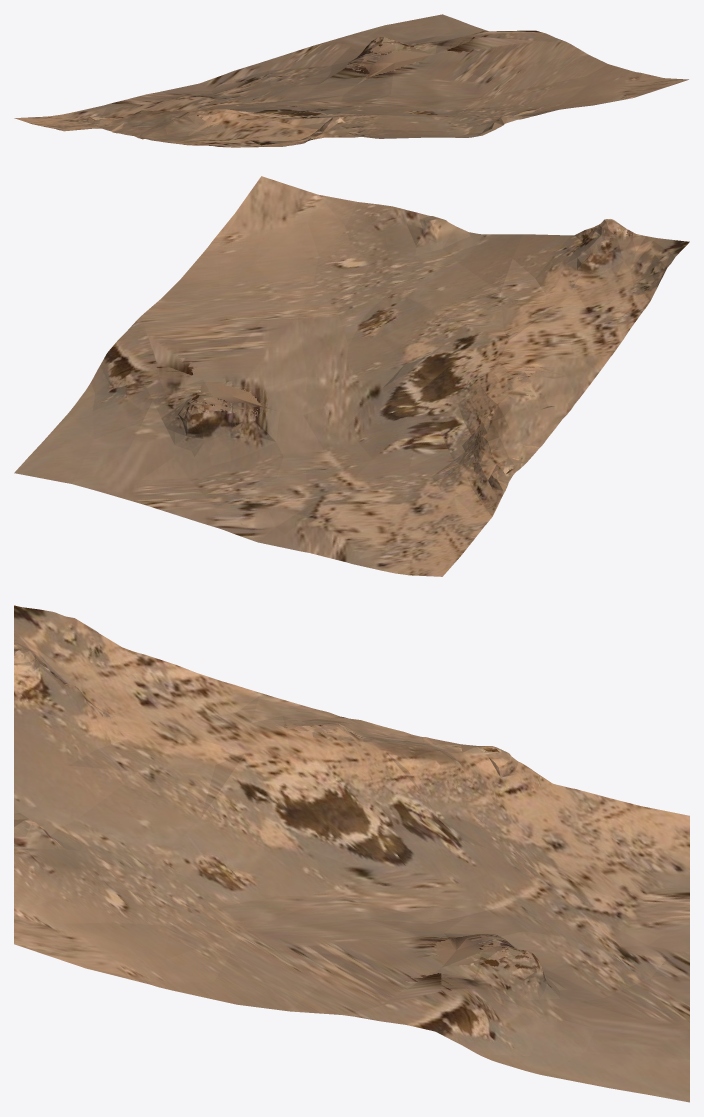
The picture shows the model from 3 angles, top to bottom: view 1: azimuth 30°, elevation 25°; view 2: azimuth 150°, elevation 25°; view 3: azimuth 270°, elevation 25°; orthographic projection. The views are drawn at different scales.
Size of the model in its own units: 1.04 by 0.395 by 1.04.
3 materials, 3 textured.
